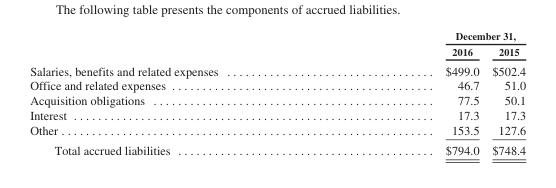table: (29, 29, 525, 156)
table column: (29, 29, 331, 156), (331, 29, 485, 156), (485, 29, 525, 156)
table column header: (29, 29, 525, 60)
table row: (29, 43, 525, 60), (29, 60, 525, 77), (29, 122, 525, 139), (29, 139, 525, 156), (29, 77, 525, 92), (29, 92, 525, 107), (29, 107, 525, 122), (29, 29, 525, 43)
table spanning cell: (331, 29, 525, 43)
